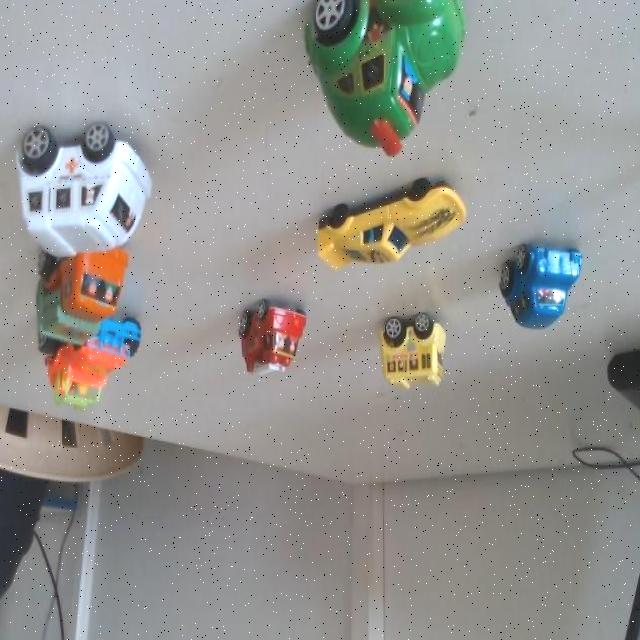car: (22, 94, 173, 280), (322, 0, 472, 145), (328, 162, 460, 284), (66, 311, 148, 415), (372, 297, 456, 395), (232, 281, 308, 389), (54, 235, 120, 352), (511, 237, 584, 333)
